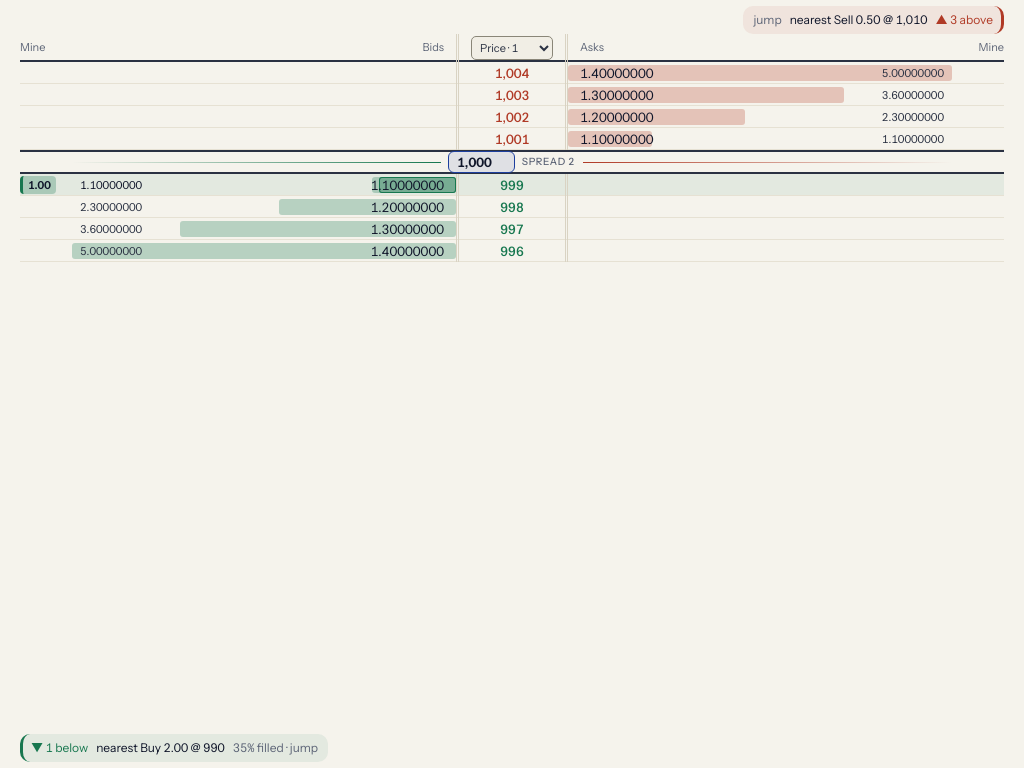
Ladder own orders › counts own orders above and below the window and jumps to the nearest
Expected: the button with aria-label "1 own order below the ladder" shows "▼ 1 below", left=20, top=734, right=328, bottom=762
Expected: the button with aria-label "1 own order below the ladder" shows "35% filled", left=20, top=734, right=328, bottom=762
What coordinates should you click on to do the following:
click the button with aria-label "3 own orders above the ladder"
I would click on:
 (874, 20)
Its box is left=743, top=6, right=1004, bottom=34.
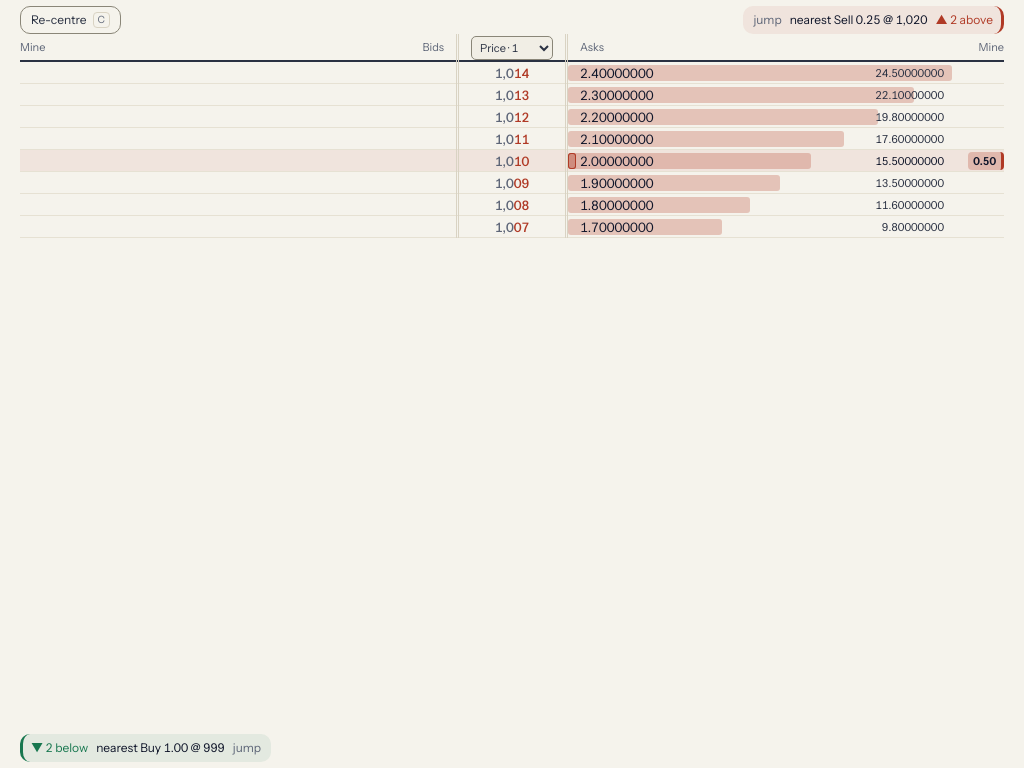
Expected: the picture named "your sell order at 1,010" is shown, left=968, top=152, right=1004, bottom=170
Expected: the button "Re-centre C" is shown, left=20, top=6, right=121, bottom=34
Expected: the button with aria-label "2 own orders below the ladder" is shown, left=20, top=734, right=271, bottom=762
